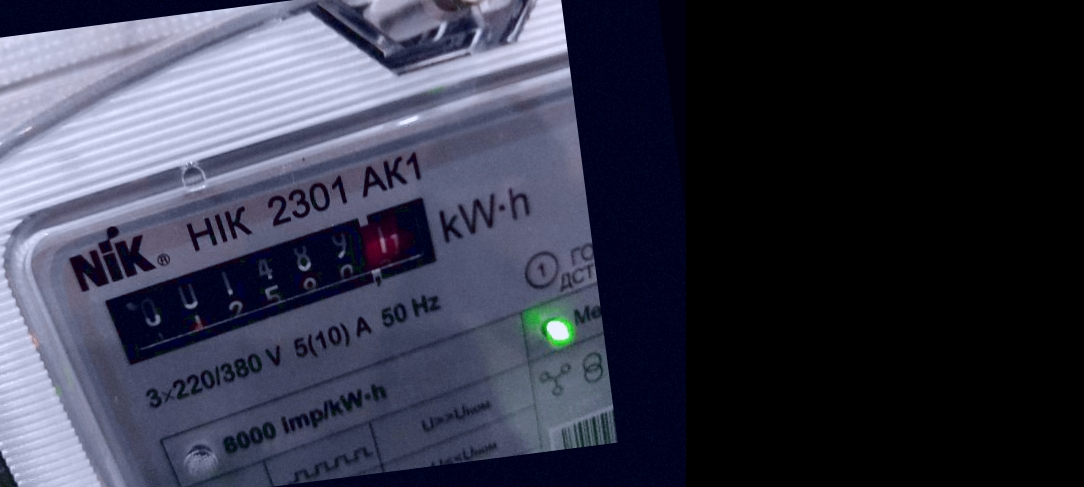0: (171, 274, 201, 313), (135, 292, 163, 330)
1: (368, 217, 392, 257), (214, 265, 238, 298)
4: (250, 250, 276, 283)
8: (289, 237, 315, 275)
9: (327, 226, 351, 260)
screen: (83, 182, 474, 379)
